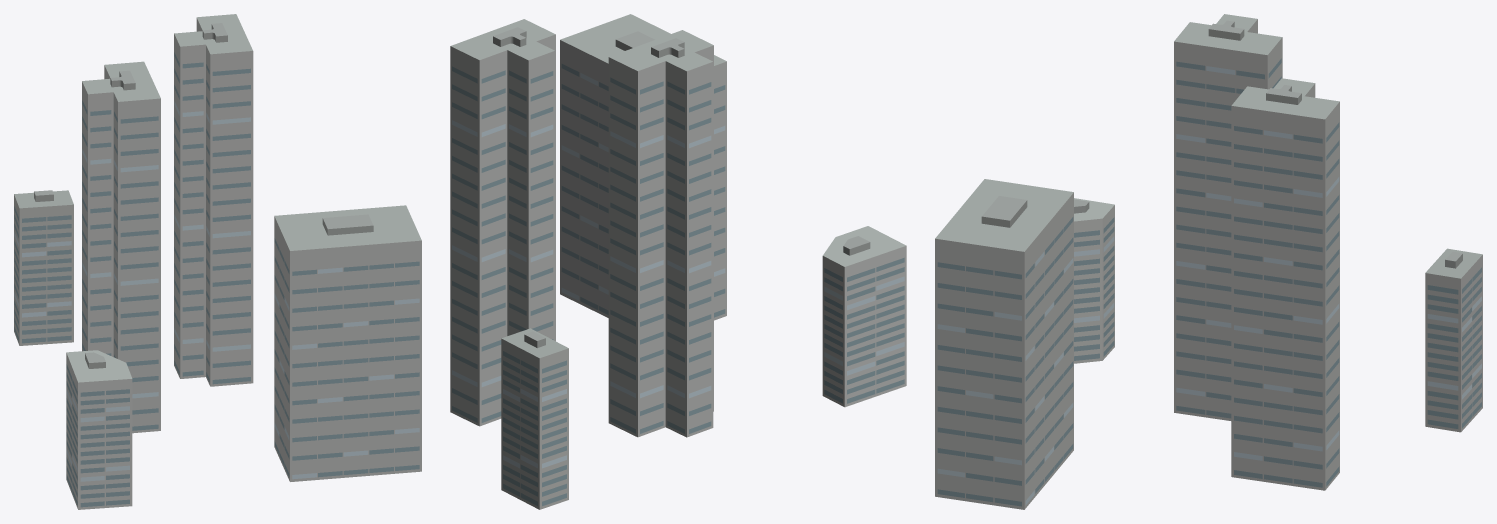
File: apt-a10027948.glb
The picture shows the model from 3 angles, left to right: view 1: azimuth 30°, elevation 25°; view 2: azimuth 150°, elevation 25°; view 3: azimuth 270°, elevation 25°; orthographic projection. The views are drawn at different scales.
Visible parts, largest first — view 1: apt-a10027948; view 2: apt-a10027948; view 3: apt-a10027948.
Boxes of the visible parts, left/top/right/bottom form: apt-a10027948: left=14, top=14, right=421, bottom=509; apt-a10027948: left=450, top=14, right=906, bottom=509; apt-a10027948: left=935, top=14, right=1482, bottom=509.
Bounding box in the file's own units: 126 × 127 × 167.
